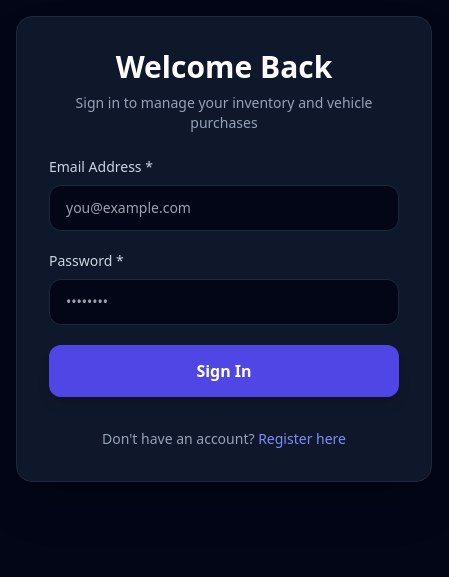
Test: LoginPage Component Unit & Integration Tests › displays API error alert when login fails
In the field labelled "Email Address *": point(224, 208) [49,185,399,231], type "wrong@example.com"
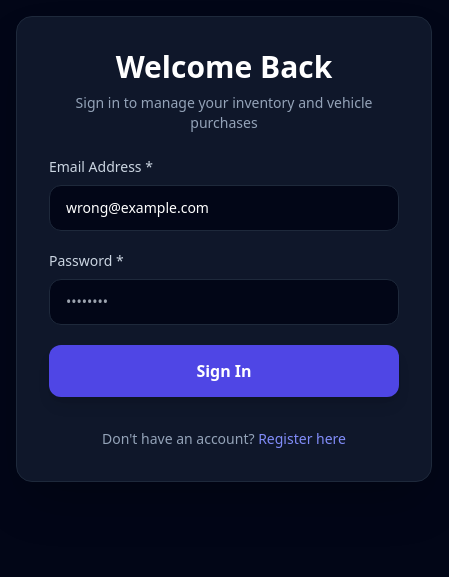
In the password field labelled "Password *": point(224, 302) [49,279,399,325], type "wrongpassword"
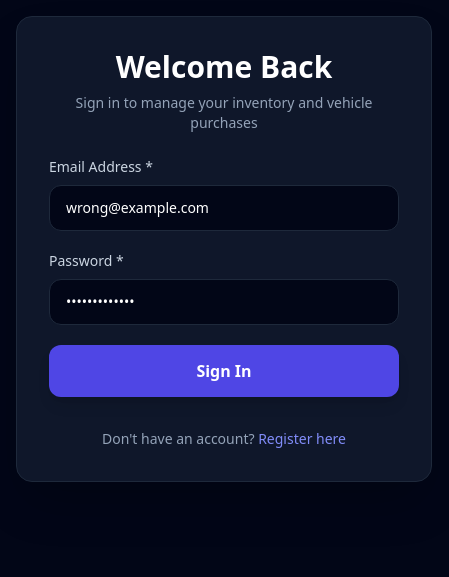
Click the button "Sign In": point(224, 371) [49,345,399,397]
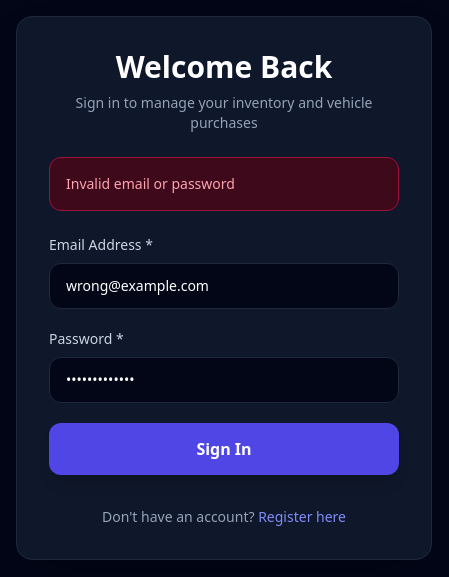
Check: the message reads "Invalid email or password", box [66,174,235,193]
